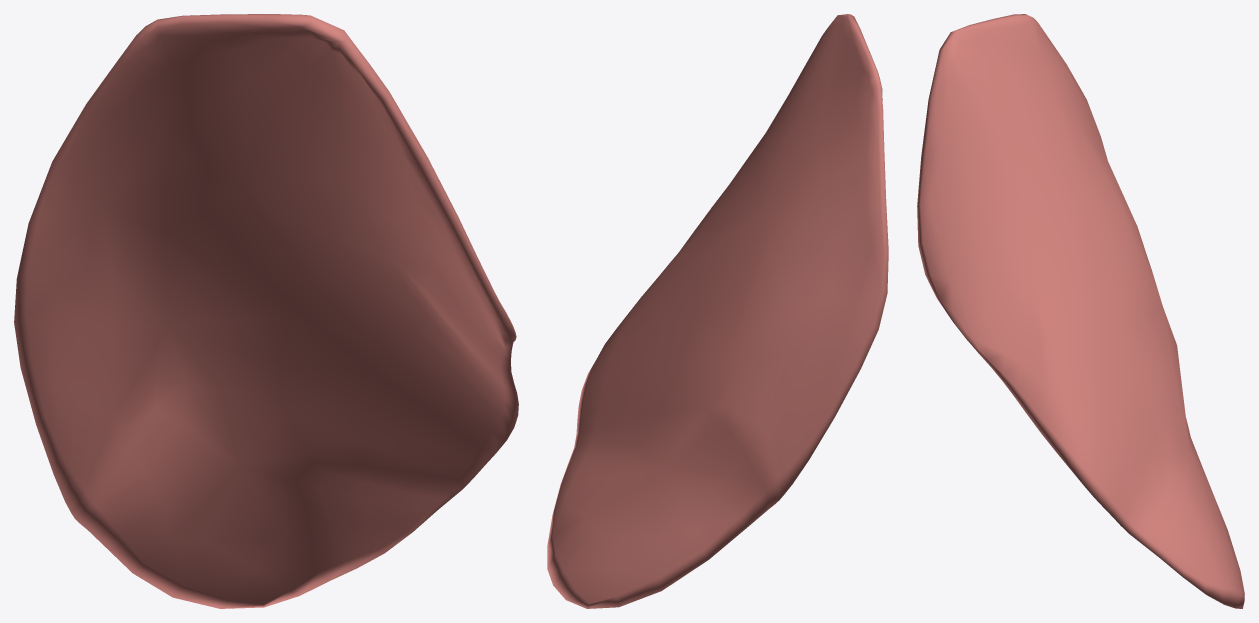
The picture shows the model from 3 angles, left to right: view 1: azimuth 30°, elevation 25°; view 2: azimuth 150°, elevation 25°; view 3: azimuth 270°, elevation 25°; orthographic projection. The views are drawn at different scales.
Visible parts, largest first — view 1: ZA_759311e72bfac439; view 2: ZA_759311e72bfac439; view 3: ZA_759311e72bfac439.
Part boxes in pixels (<box>): ZA_759311e72bfac439: <box>14,14,518,608</box>; ZA_759311e72bfac439: <box>547,14,888,608</box>; ZA_759311e72bfac439: <box>917,14,1244,608</box>.
Bounding box in the file's own units: 0.0166 × 0.0264 × 0.0153.
